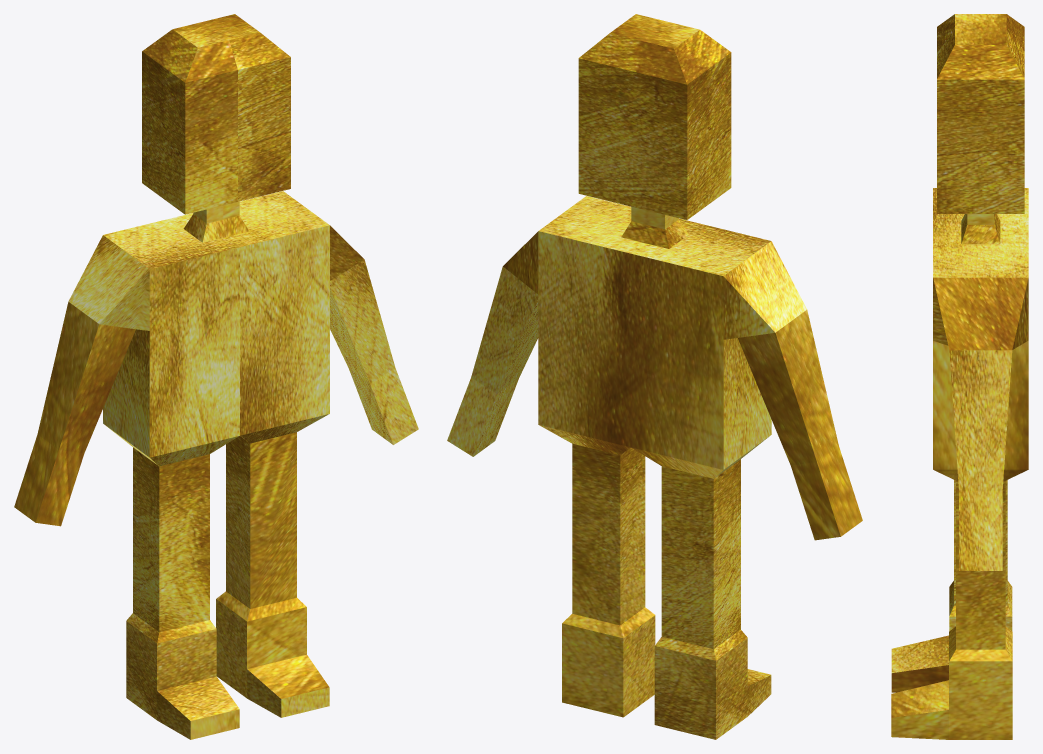
The model's file is GodotIdol.glb.
3 views of the same model, side by side, from view 1: azimuth 30°, elevation 25°; view 2: azimuth 150°, elevation 25°; view 3: azimuth 270°, elevation 25° (orthographic). The views are drawn at different scales.
Parts seen in each view (by area): view 1: Idol; view 2: Idol; view 3: Idol.
Boxes of the visible parts, left/top/right/bottom form: Idol: left=14, top=14, right=418, bottom=739; Idol: left=447, top=14, right=862, bottom=739; Idol: left=891, top=14, right=1028, bottom=739.
Bounding box in the file's own units: 1.2 × 1.98 × 0.3651.
1 material, 1 textured.
